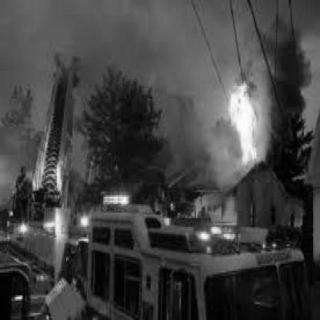Fire: (222, 72, 264, 176)
other: (18, 216, 31, 236)
